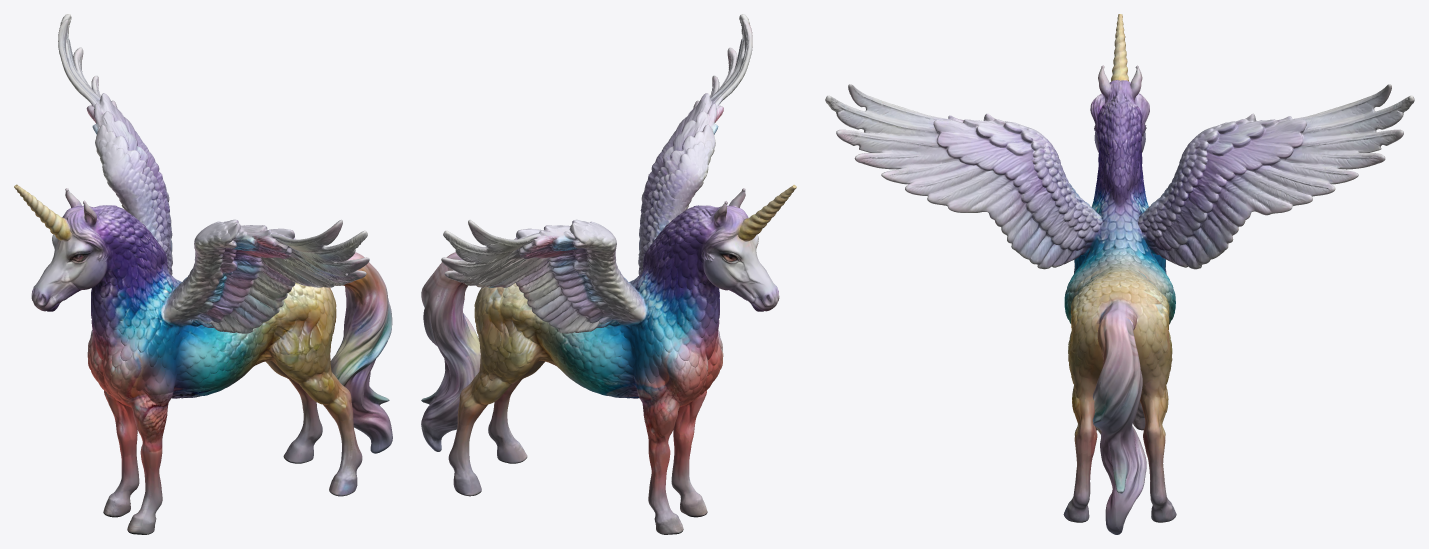
File: H40-web.glb
The picture shows the model from 3 angles, left to right: view 1: azimuth 30°, elevation 25°; view 2: azimuth 150°, elevation 25°; view 3: azimuth 270°, elevation 25°; orthographic projection.
Parts seen in each view (by area): view 1: tripo_node_484dd66b-11bd-4a33-9470-027cf7e8e02f; view 2: tripo_node_484dd66b-11bd-4a33-9470-027cf7e8e02f; view 3: tripo_node_484dd66b-11bd-4a33-9470-027cf7e8e02f.
Boxes of the visible parts, box(x1,y1,x2,y2) form: tripo_node_484dd66b-11bd-4a33-9470-027cf7e8e02f: box(14, 14, 392, 534); tripo_node_484dd66b-11bd-4a33-9470-027cf7e8e02f: box(421, 14, 796, 534); tripo_node_484dd66b-11bd-4a33-9470-027cf7e8e02f: box(825, 14, 1414, 534).
Size of the model in its own units: 0.4328 by 0.4253 by 0.6.
Materials: 1 (1 with a texture image).
